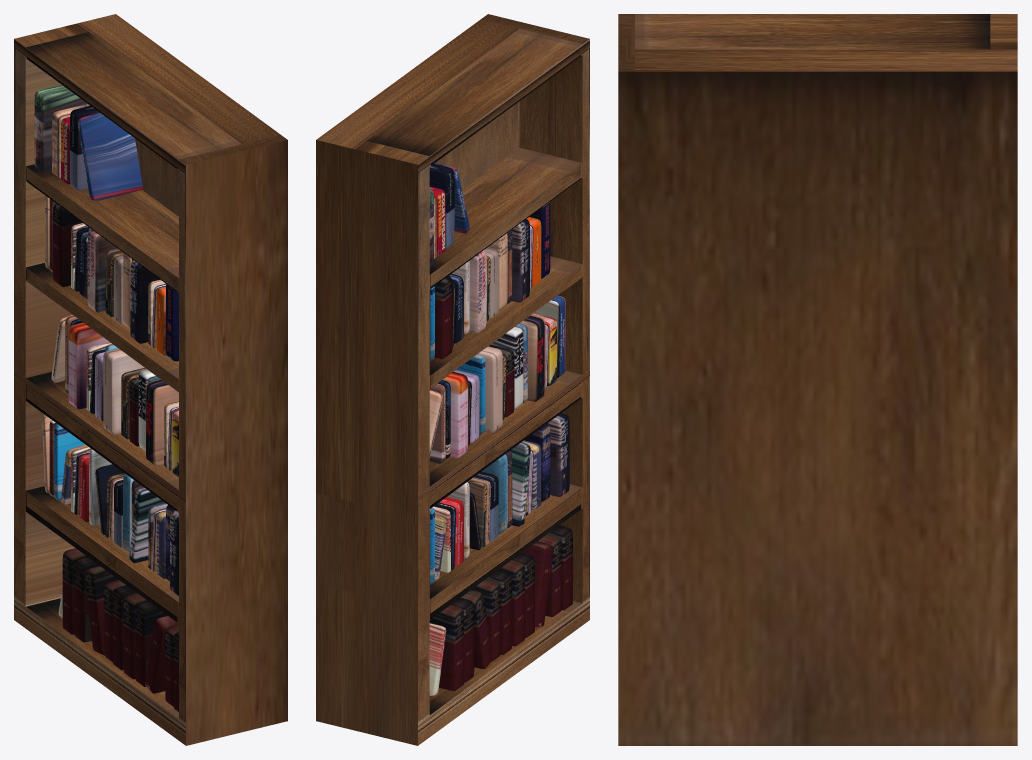
The model's file is bookshelf.glb.
The picture shows the model from 3 angles, left to right: view 1: azimuth 30°, elevation 25°; view 2: azimuth 150°, elevation 25°; view 3: azimuth 270°, elevation 25°; orthographic projection. The views are drawn at different scales.
Parts seen in each view (by area): view 1: Object_4, Object_5; view 2: Object_4, Object_5; view 3: Object_4.
Boxes of the visible parts, x1,y1,x2,y2 form: Object_4: [14, 14, 287, 745]; Object_5: [34, 84, 178, 711]; Object_4: [316, 14, 589, 745]; Object_5: [429, 162, 572, 695]; Object_4: [618, 14, 1017, 745].
Bounding box in the file's own units: 0.2109 × 1.15 × 0.617.
Materials: 2 (2 with a texture image).
